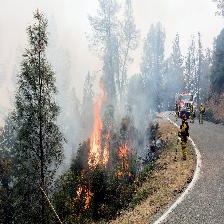fire: (85, 88, 115, 170), (73, 175, 94, 213), (117, 142, 134, 176)
smoke: (2, 3, 224, 132)
